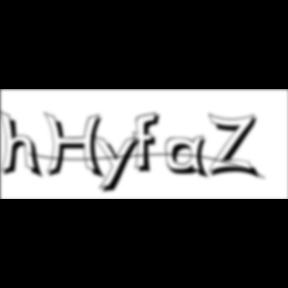H: (43, 112, 109, 182)
Z: (208, 112, 262, 181)
a: (166, 135, 214, 182)
f: (134, 111, 166, 175)
h: (0, 108, 46, 182)
y: (92, 132, 146, 196)
